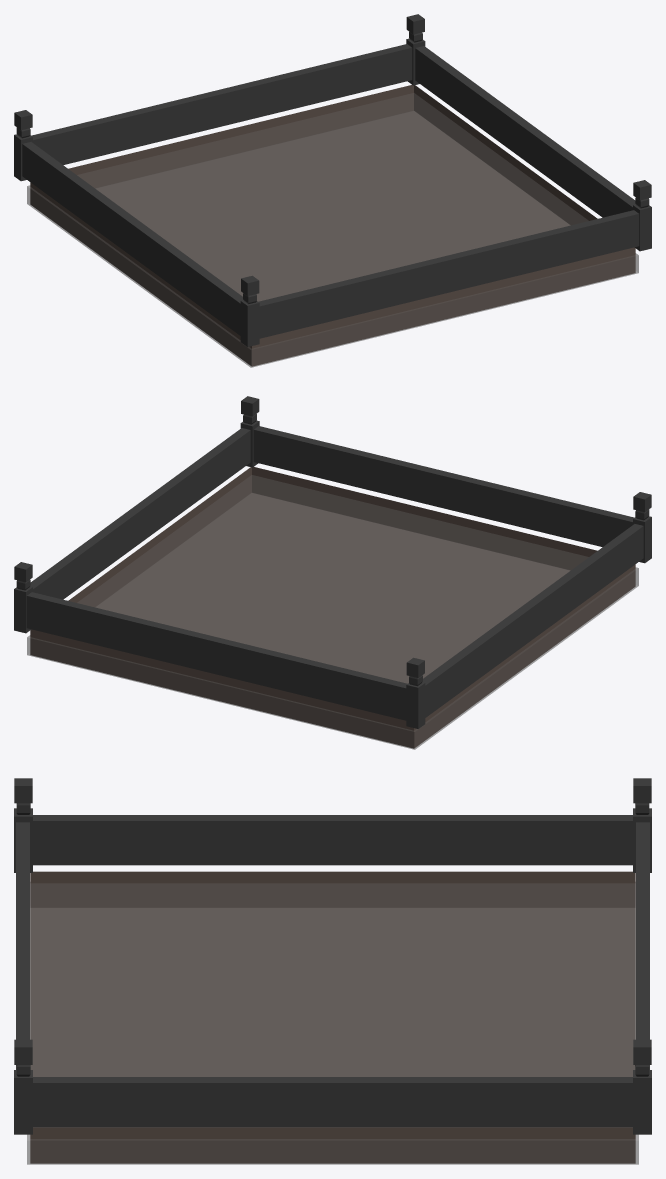
File: pool.glb
3 views of the same model, one above another, from view 1: azimuth 30°, elevation 25°; view 2: azimuth 150°, elevation 25°; view 3: azimuth 270°, elevation 25° (orthographic). The views are drawn at different scales.
Parts seen in each view (by area): view 1: terrain, water, fence; view 2: terrain, water, fence; view 3: terrain, water, fence.
Part boxes in pixels (box(x1,y1,x2,y2)): terrain: box(30, 85, 635, 366); water: box(27, 93, 638, 367); fence: box(14, 14, 651, 346); terrain: box(30, 467, 635, 748); water: box(27, 475, 638, 749); fence: box(14, 396, 651, 728); terrain: box(30, 871, 635, 1163); water: box(27, 882, 638, 1164); fence: box(14, 778, 651, 1134).
Bounding box in the file's own units: 8.16 × 1.74 × 8.16.
